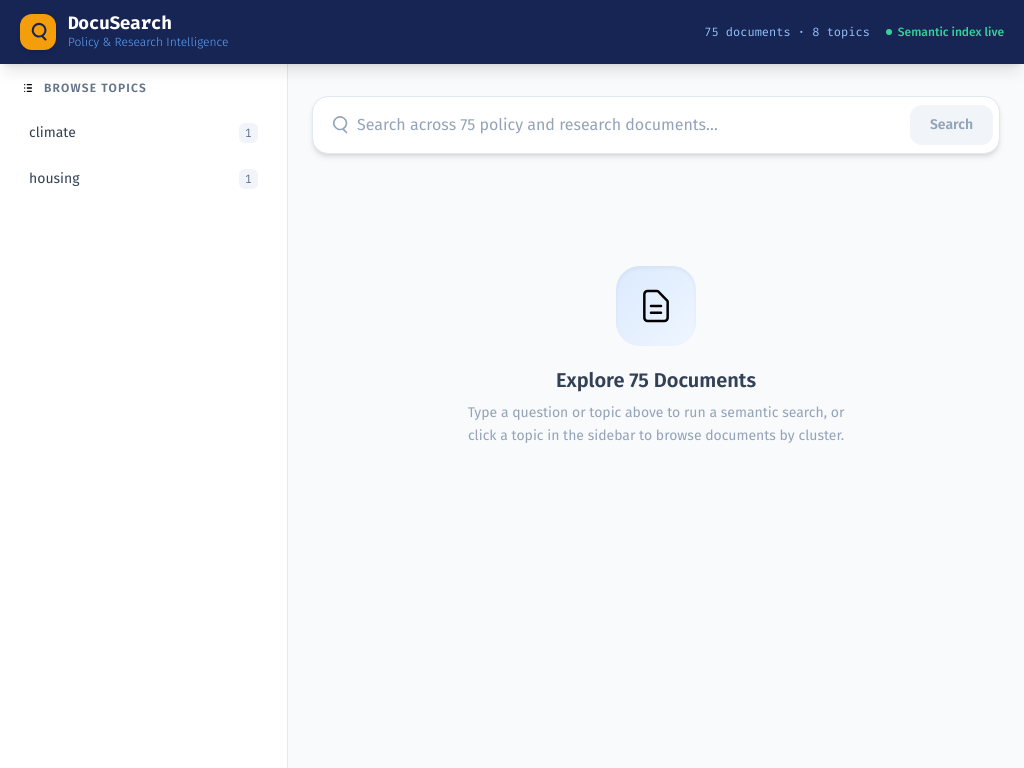
Test: App › loads topics and displays documents for a selected tag
This screenshot has width=1024, height=768.
Click the button with aria-label "Filter by topic: climate (1 documents)". click: [144, 133]
box: x1=16 y1=112 x2=271 y2=154
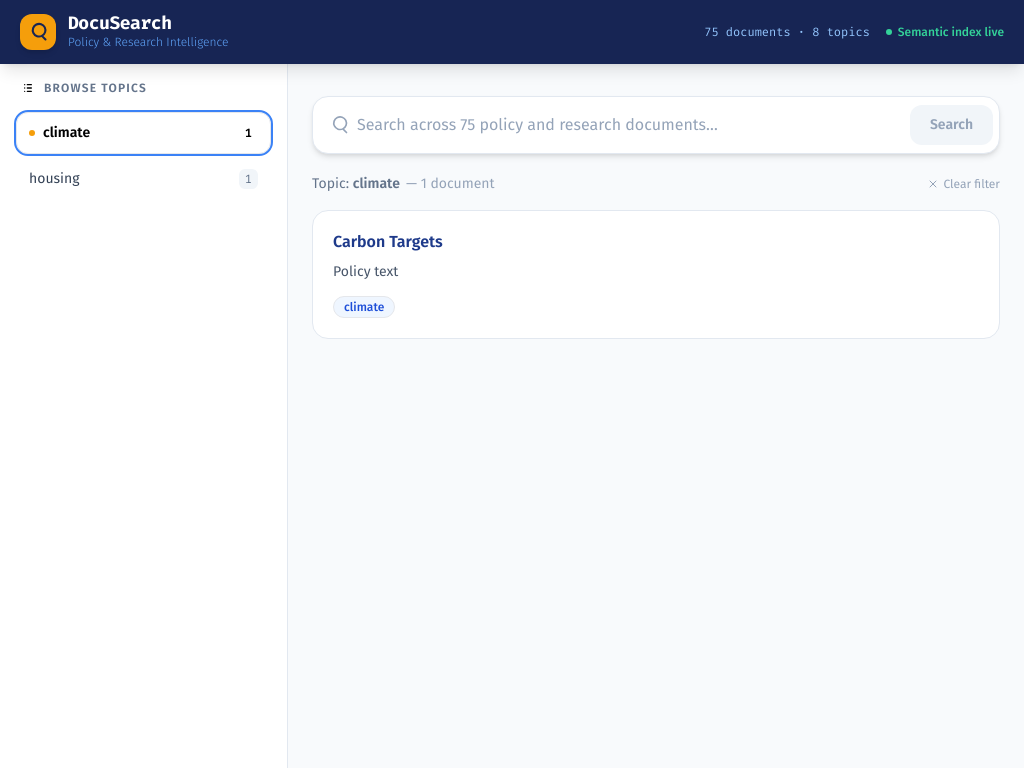
Expected: the text "Topic:" is shown, x1=312 y1=175 x2=349 y2=192
Expected: the heading "Carbon Targets" is shown, x1=333 y1=232 x2=443 y2=251
Expected: the text "Policy text" is shown, x1=333 y1=263 x2=398 y2=280
